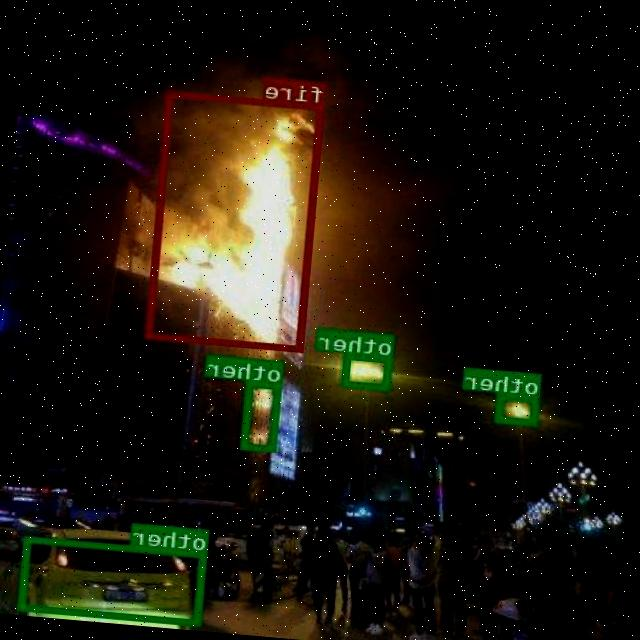fire: (147, 90, 326, 352)
